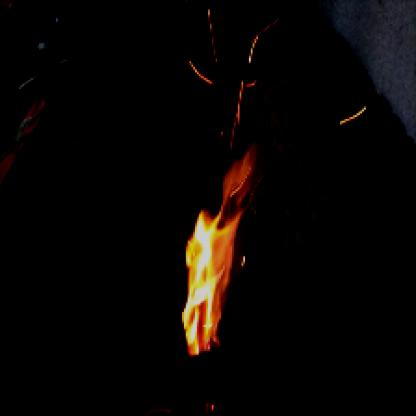Fire: (178, 130, 264, 358)
